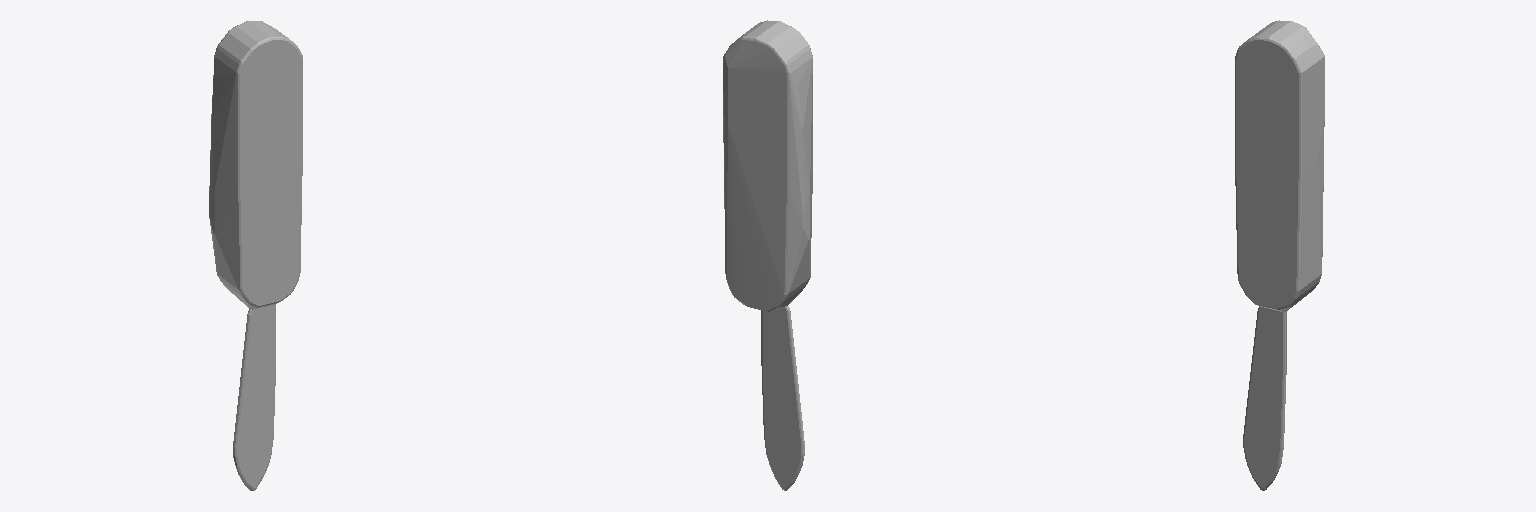
The robot description file, URDF, robot "root":
<robot name="root">
  <link name="link_coacd_convex_piece_0">
    <inertial>
      <origin xyz="0 0 0" rpy="0 0 0"/>
      <inertia ixx="4.19E-04" ixy="6.25E-06" ixz="-1.39E-06" iyy="8.10E-06" iyz="5.87E-05" izz="4.18E-04"/>
    </inertial>
    <visual>
      <origin xyz="0 0 0" rpy="0 0 0"/>
      <geometry>
        <mesh filename="coacd_convex_piece_0.obj" scale="1.0000E+00 1.0000E+00 1.0000E+00"/>
      </geometry>
      <material name="">
        <color rgba="7.50E-01 7.50E-01 7.50E-01 1"/>
      </material>
    </visual>
    <collision>
      <origin xyz="0 0 0" rpy="0 0 0"/>
      <geometry>
        <mesh filename="coacd_convex_piece_0.obj" scale="1.0000E+00 1.0000E+00 1.0000E+00"/>
      </geometry>
    </collision>
  </link>
  <link name="link_coacd_convex_piece_1">
    <inertial>
      <origin xyz="0 0 0" rpy="0 0 0"/>
      <inertia ixx="6.27E-03" ixy="-8.96E-06" ixz="-3.68E-06" iyy="5.19E-04" iyz="4.22E-05" izz="6.49E-03"/>
    </inertial>
    <visual>
      <origin xyz="0 0 0" rpy="0 0 0"/>
      <geometry>
        <mesh filename="coacd_convex_piece_1.obj" scale="1.0000E+00 1.0000E+00 1.0000E+00"/>
      </geometry>
      <material name="">
        <color rgba="7.50E-01 7.50E-01 7.50E-01 1"/>
      </material>
    </visual>
    <collision>
      <origin xyz="0 0 0" rpy="0 0 0"/>
      <geometry>
        <mesh filename="coacd_convex_piece_1.obj" scale="1.0000E+00 1.0000E+00 1.0000E+00"/>
      </geometry>
    </collision>
  </link>
  <joint name="link_coacd_convex_piece_1_joint" type="fixed">
    <origin xyz="0 0 0" rpy="0 0 0"/>
    <parent link="link_coacd_convex_piece_0"/>
    <child link="link_coacd_convex_piece_1"/>
  </joint>
</robot>

--- Facts derived from the render (not from the file) ---
3 views of the same robot in one strip: view 1: azimuth 30°, elevation 25°; view 2: azimuth 150°, elevation 25°; view 3: azimuth 330°, elevation 25° (orthographic).
Robot: root — 2 links, 1 joints (1 fixed); root link link_coacd_convex_piece_0; default pose: all joints at 0.
Links seen in each view (by area): view 1: link_coacd_convex_piece_1, link_coacd_convex_piece_0; view 2: link_coacd_convex_piece_1, link_coacd_convex_piece_0; view 3: link_coacd_convex_piece_1, link_coacd_convex_piece_0.
Boxes of the visible links, bbox=[...] form: link_coacd_convex_piece_1: bbox=[209, 21, 302, 309]; link_coacd_convex_piece_0: bbox=[233, 304, 275, 490]; link_coacd_convex_piece_1: bbox=[723, 20, 812, 311]; link_coacd_convex_piece_0: bbox=[761, 306, 804, 490]; link_coacd_convex_piece_1: bbox=[1235, 20, 1324, 311]; link_coacd_convex_piece_0: bbox=[1243, 306, 1286, 490].
Bounding box of the posed robot: 0.3393 × 0.2094 × 1.95 m (x, y, z).
Meshes: 2 distinct files referenced, 2 mesh visuals loaded (2 OBJ).
